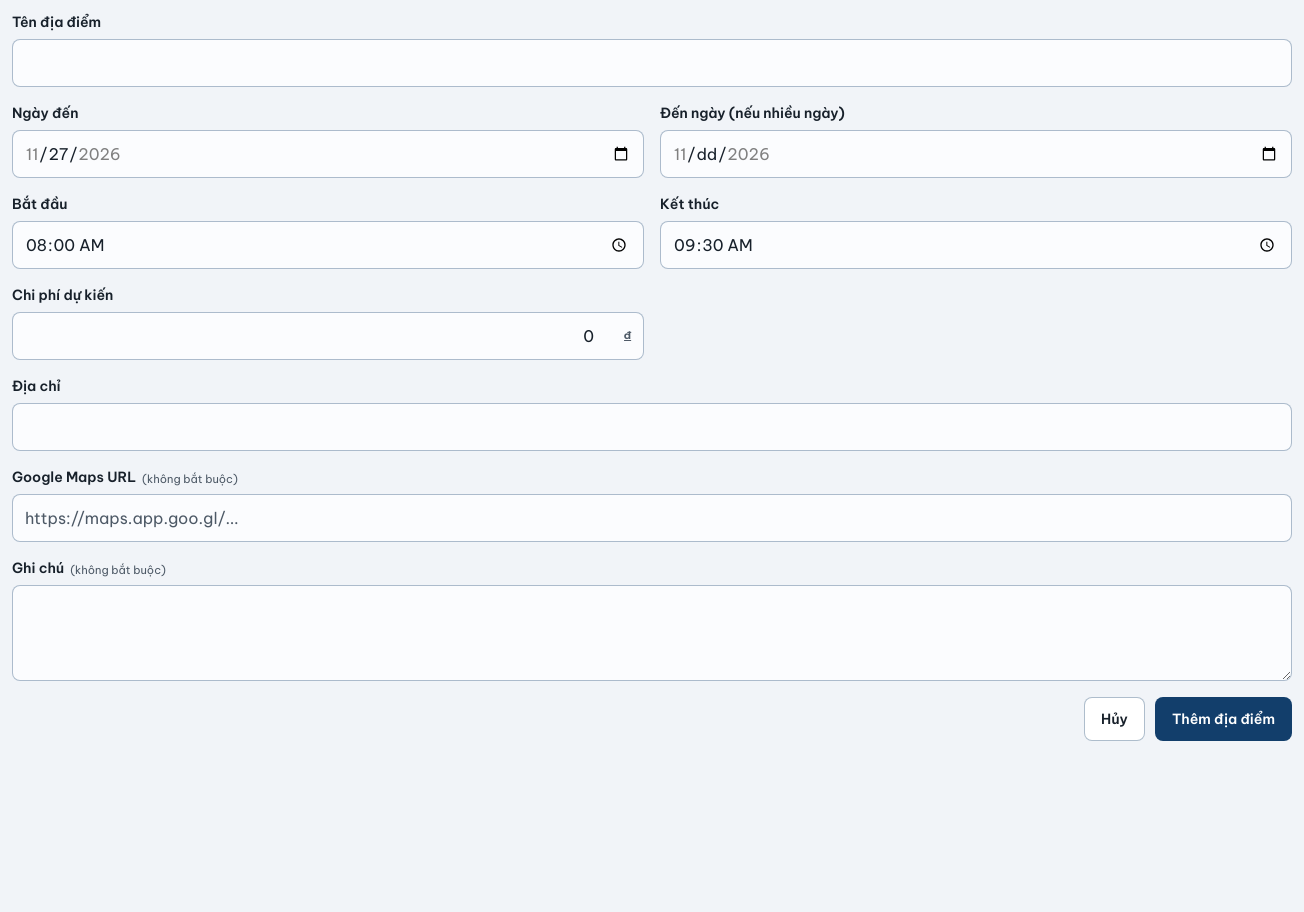
Scenario: ItineraryForm overlap warning › rejects an end date that is not after the start date
Type "2026-11-27" into the date field labelled "Đến ngày (nếu nhiều ngày)".
click(976, 154); type("2026-11-27")  # box [660,130,1292,178]
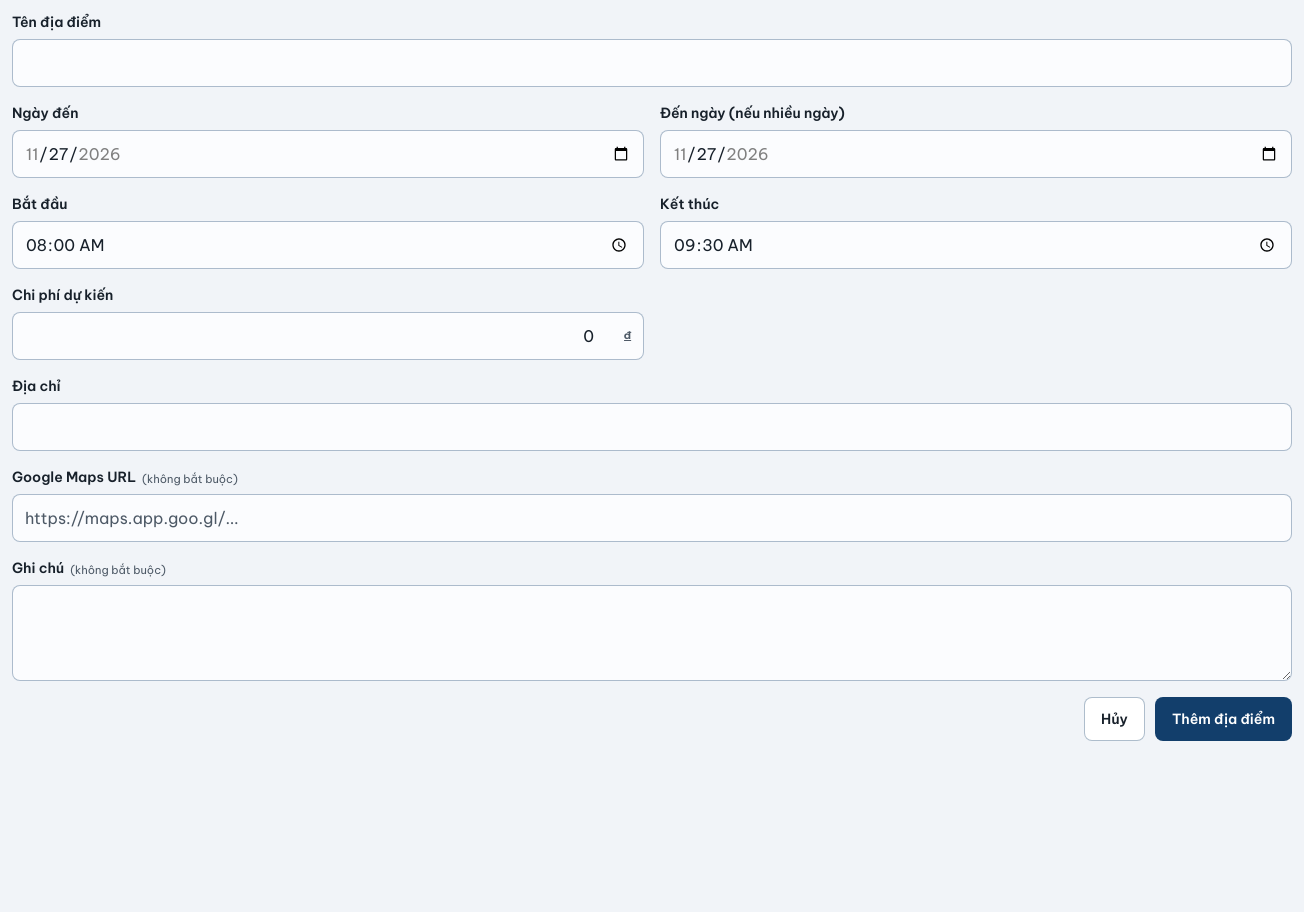
Click the button "Thêm địa điểm".
click(1223, 719)  # box [1155,697,1292,741]
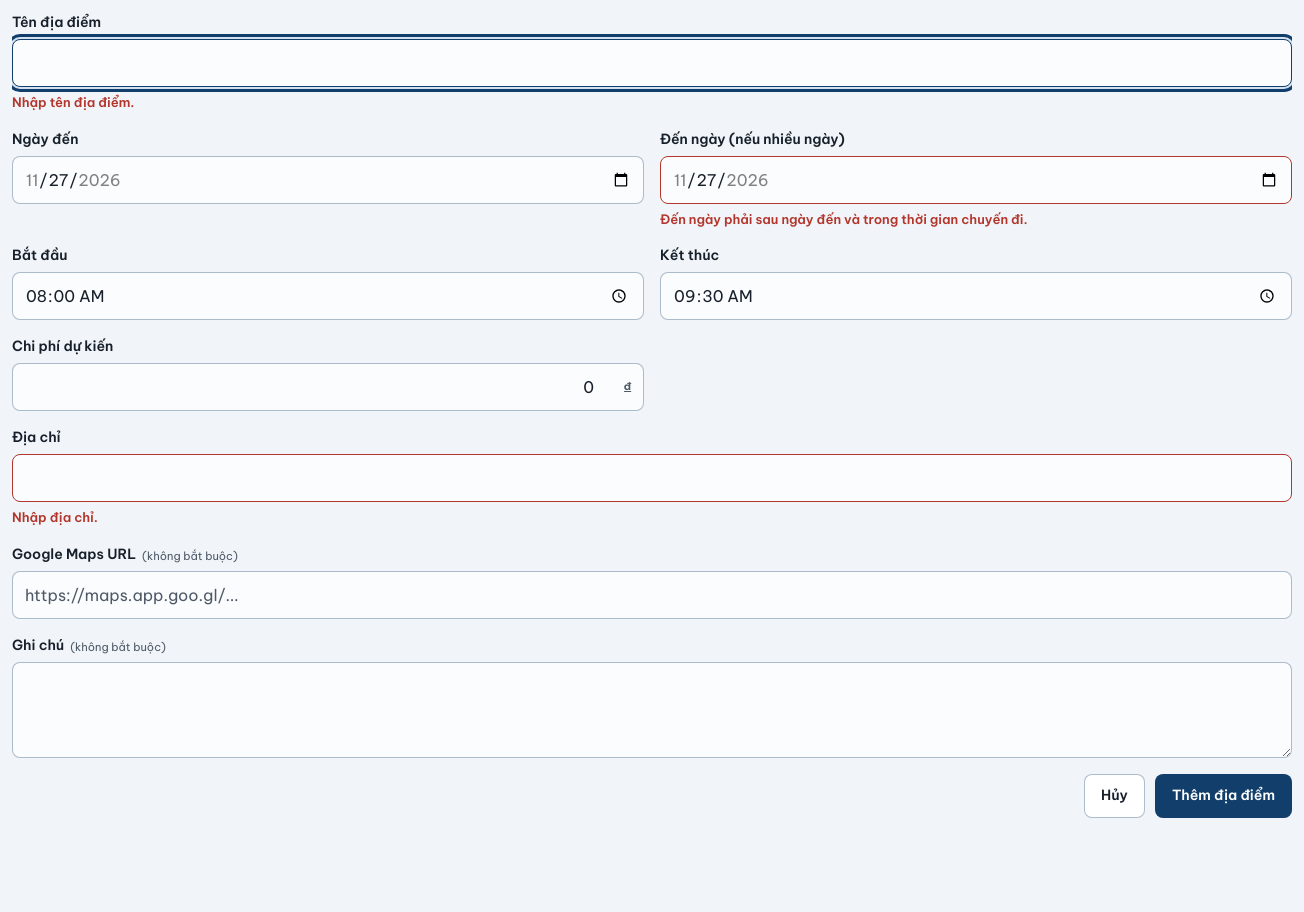
Expected: the text "Đến ngày phải sau ngày đến và trong thời gian chuyến đi." is shown, [660,210,1028,226]
